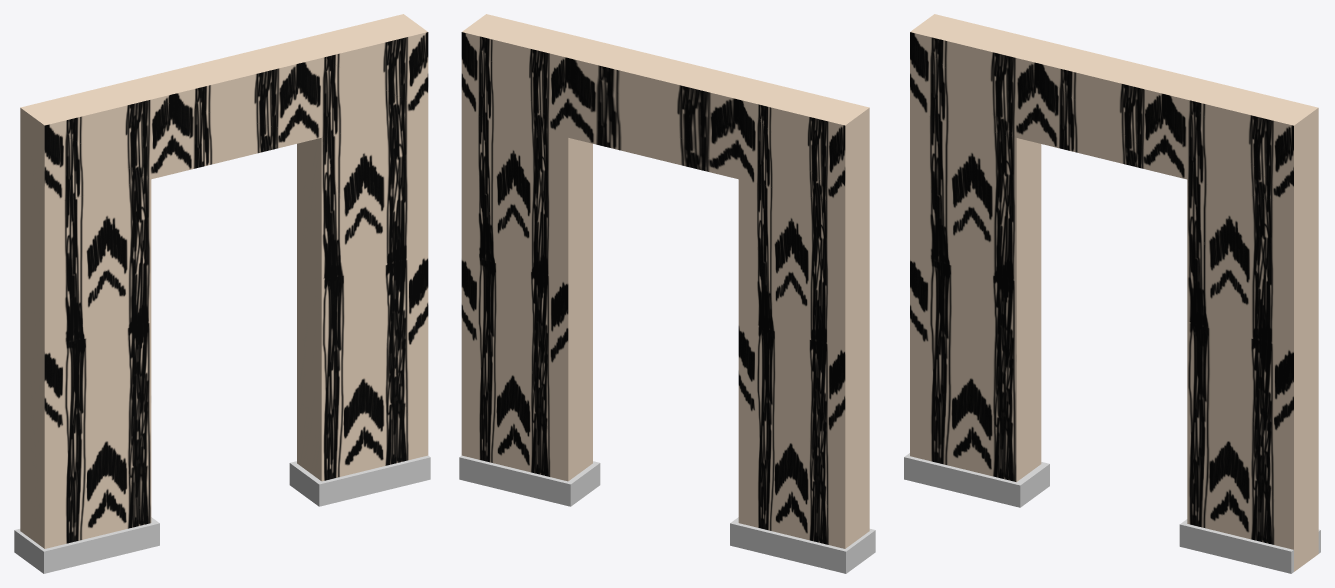
Rendered from puerta.fbx.
3 views of the same model, side by side, from view 1: azimuth 30°, elevation 25°; view 2: azimuth 150°, elevation 25°; view 3: azimuth 330°, elevation 25° (orthographic).
Visible parts, largest first — view 1: paredx.001, paredx.012; view 2: paredx.001, paredx.012; view 3: paredx.001, paredx.012.
Boxes of the visible parts, <box> form: paredx.001: <box>20,14,428,548</box>; paredx.012: <box>14,455,430,573</box>; paredx.001: <box>461,14,869,548</box>; paredx.012: <box>459,455,875,573</box>; paredx.001: <box>910,14,1318,571</box>; paredx.012: <box>904,453,1320,573</box>.
Size of the model in its own units: 273 by 300 by 36.05.
